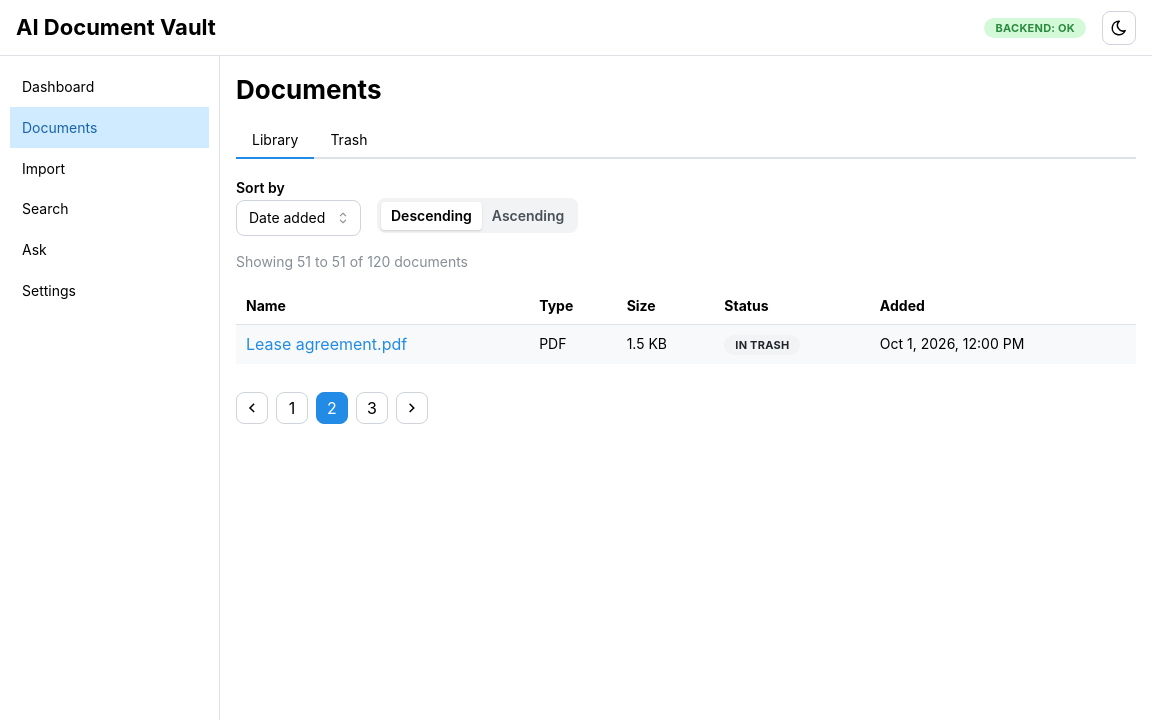
Test case: document list › lists the trash, from its first page, with the date each was moved there
This screenshot has width=1152, height=720.
Expected: the table is shown, [236, 288, 1136, 364]
Click the tab "Trash" at (349, 141), box [314, 123, 383, 159]
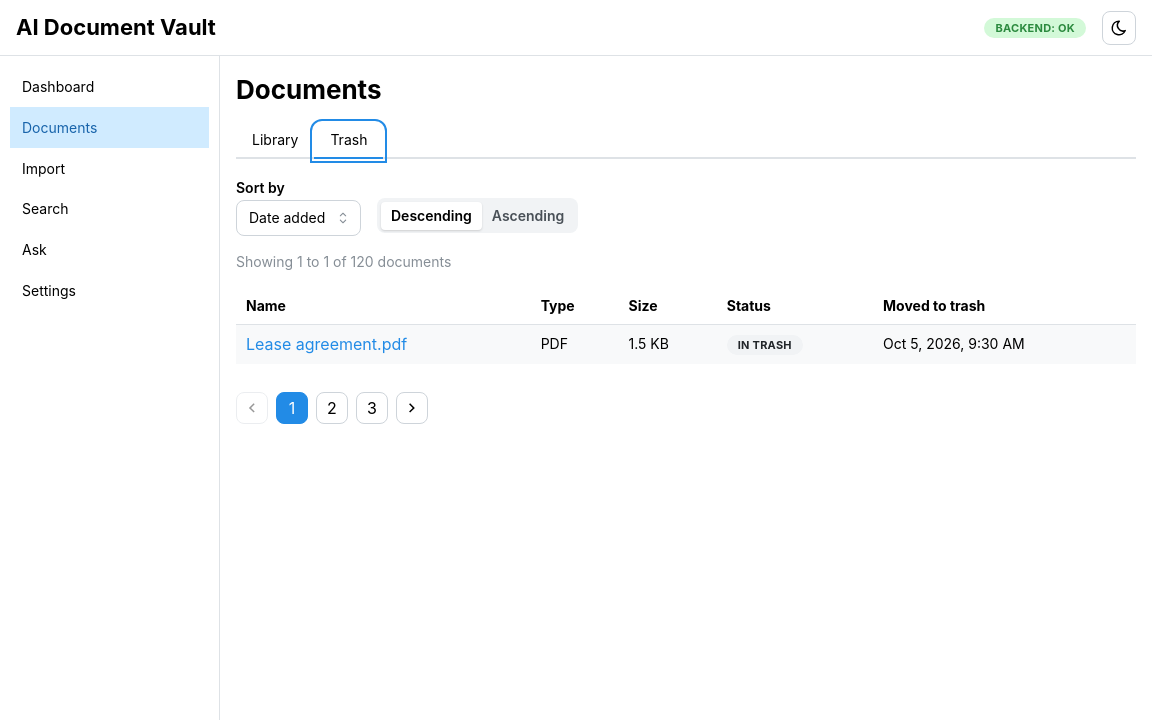
Expected: the text "In trash" is shown, [738, 336, 792, 354]
Now the column heading "Moved to trash" is shown, box [873, 288, 1136, 324]
